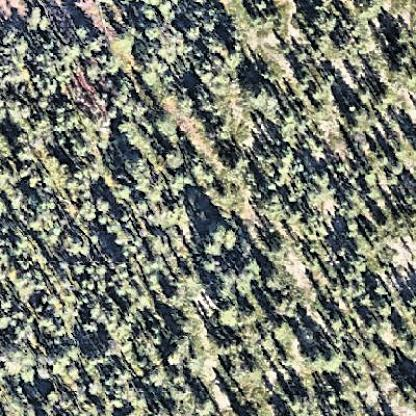tree-top: (2, 341, 38, 383), (118, 150, 156, 183), (13, 270, 45, 302), (150, 110, 181, 137), (202, 219, 233, 246), (274, 294, 304, 321), (244, 82, 270, 109), (215, 304, 241, 328), (265, 234, 290, 258), (164, 146, 185, 171), (314, 169, 335, 191), (173, 381, 195, 400), (92, 195, 112, 215), (117, 32, 136, 52), (306, 352, 323, 372), (203, 256, 220, 273)
